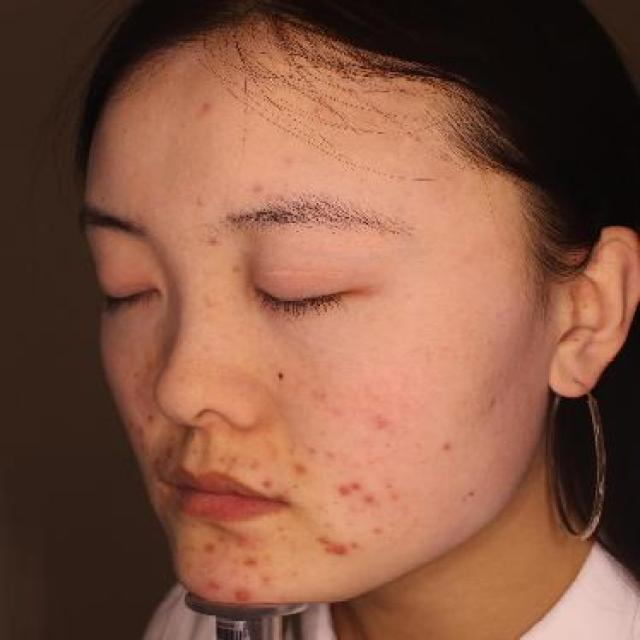dark spot: (320, 534, 353, 563), (236, 551, 267, 574), (369, 409, 392, 437), (368, 518, 390, 542), (199, 574, 224, 595), (197, 95, 219, 118), (361, 486, 378, 509), (436, 437, 457, 452), (303, 443, 320, 457), (202, 542, 219, 556), (291, 460, 306, 475), (258, 474, 272, 488)
papules: (233, 588, 255, 602), (336, 483, 352, 497)
